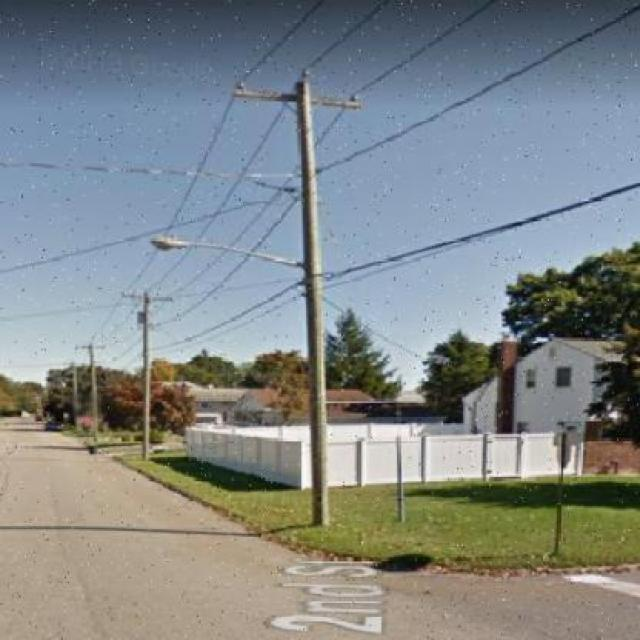pole: (130, 34, 444, 537)
